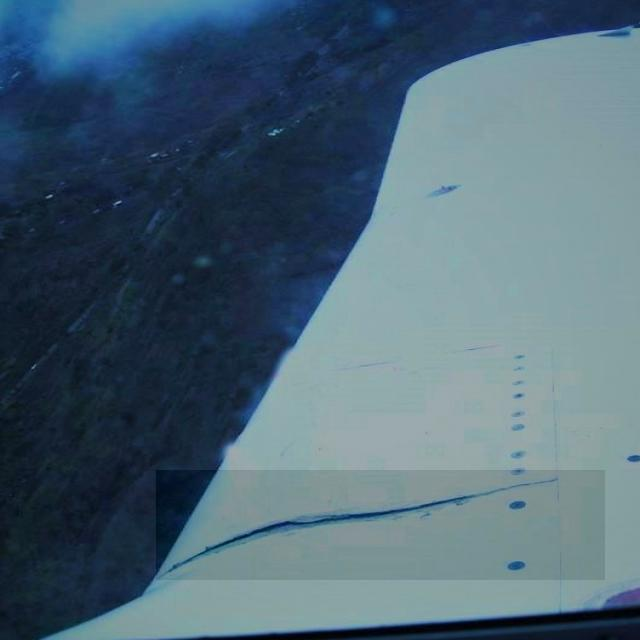crack: (157, 471, 606, 581)
